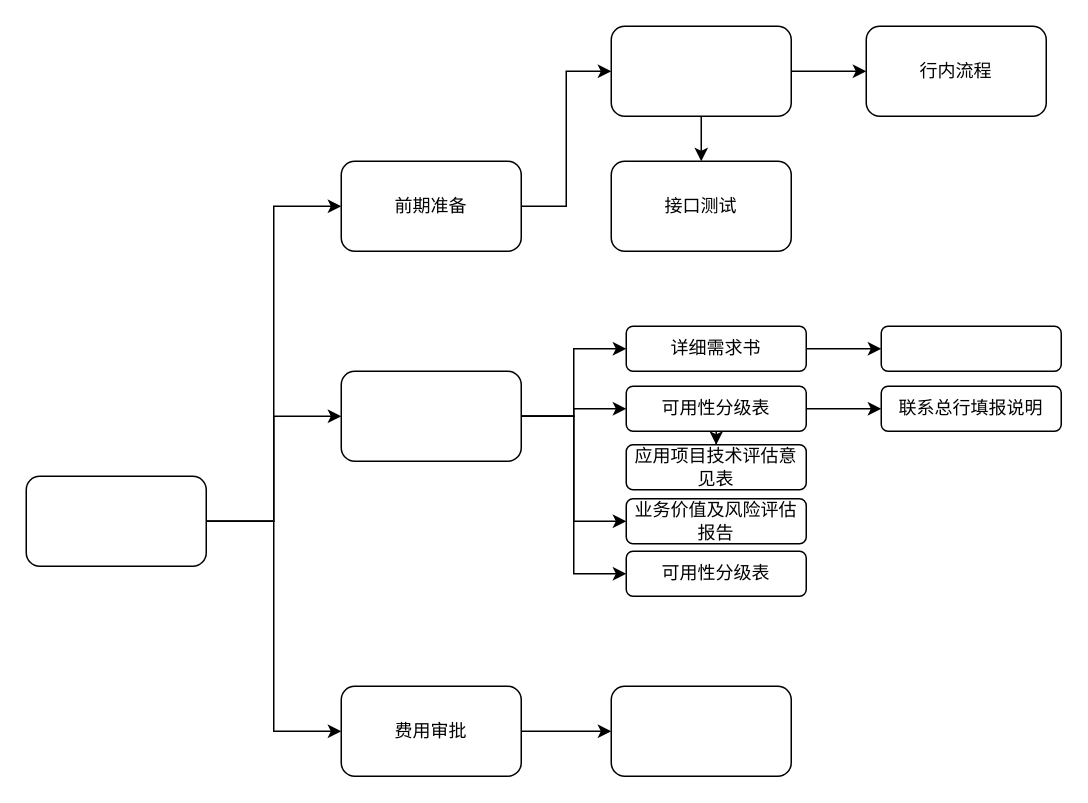
This 1088x803 diagram has some shape labels left out. The shapes that lost their labels are listed below. From the top down, each one's box as (x1, y1, x2, y2) in pixels, then its label:
(610, 25, 791, 116): 选定开发商
(880, 325, 1061, 371): 问四家开发商拿
(340, 370, 521, 461): 上报材料准备
(25, 475, 206, 566): 业务立项
(610, 685, 791, 776): 是否要上科管委年度计划
